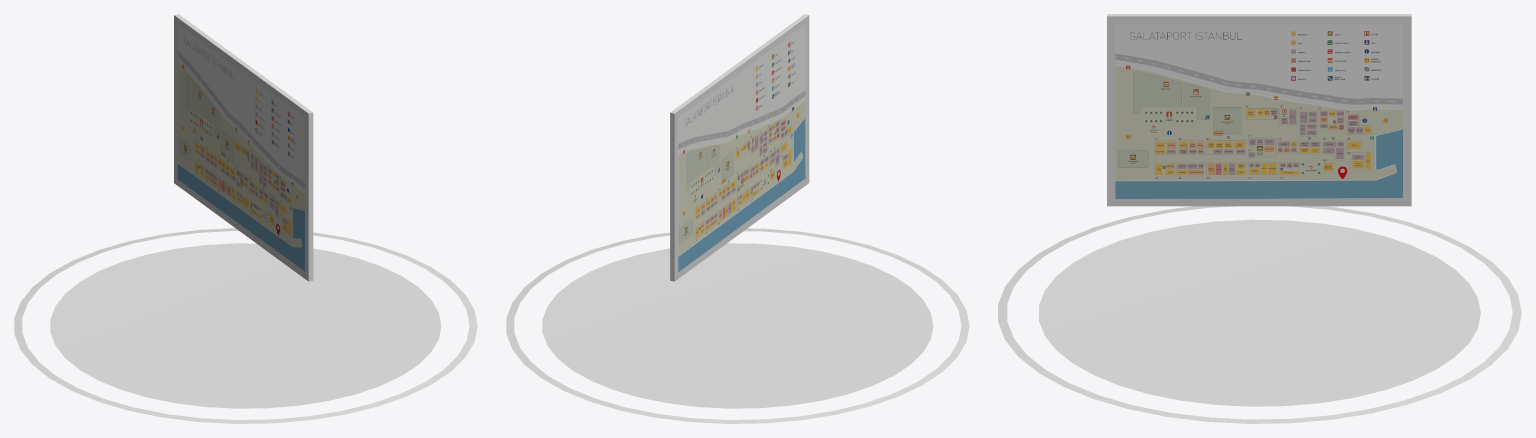
The model's file is Totem_0.2.fbx.
3 renders of one model, left to right at view 1: azimuth 30°, elevation 25°; view 2: azimuth 150°, elevation 25°; view 3: azimuth 270°, elevation 25°, orthographic. The views are drawn at different scales.
Parts seen in each view (by area): view 1: Circle, Cube.001, Circle.001; view 2: Circle, Cube.001, Circle.001; view 3: Circle, Cube, Circle.001, Cube.001.
Part boxes in pixels (x1,y1,x2,y2): Circle: (50,243,441,408); Cube.001: (174,14,313,281); Circle.001: (14,228,477,423); Circle: (542,243,933,408); Cube.001: (670,14,809,281); Circle.001: (506,228,969,423); Circle: (1039,219,1480,406); Cube: (1107,16,1411,206); Circle.001: (998,206,1521,423); Cube.001: (1107,14,1411,16).
Bounding box in the file's own units: 449 × 281 × 449.
5 materials, 2 textured.
